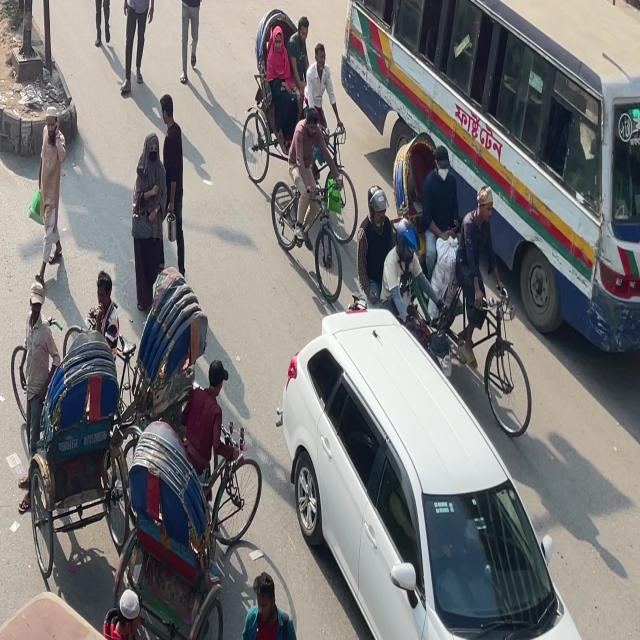bicycle: (426, 278, 534, 440), (587, 0, 639, 9)
bus: (342, 0, 638, 364)
car: (282, 309, 566, 636)
